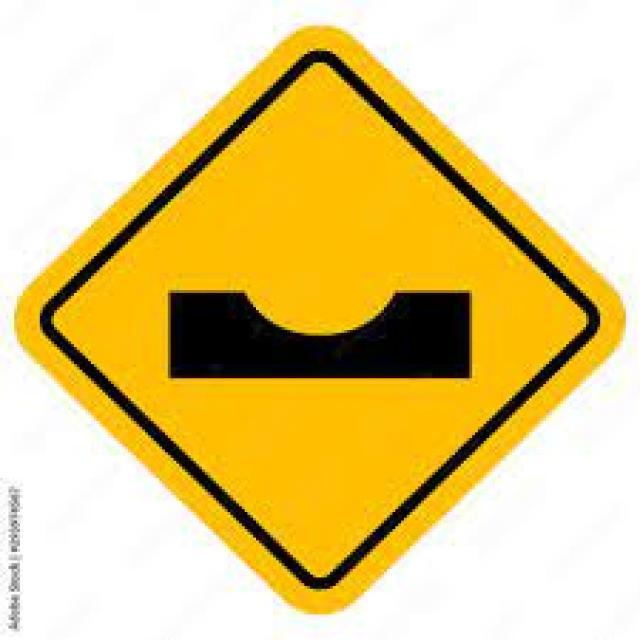dangerous dip: (23, 26, 624, 607)
